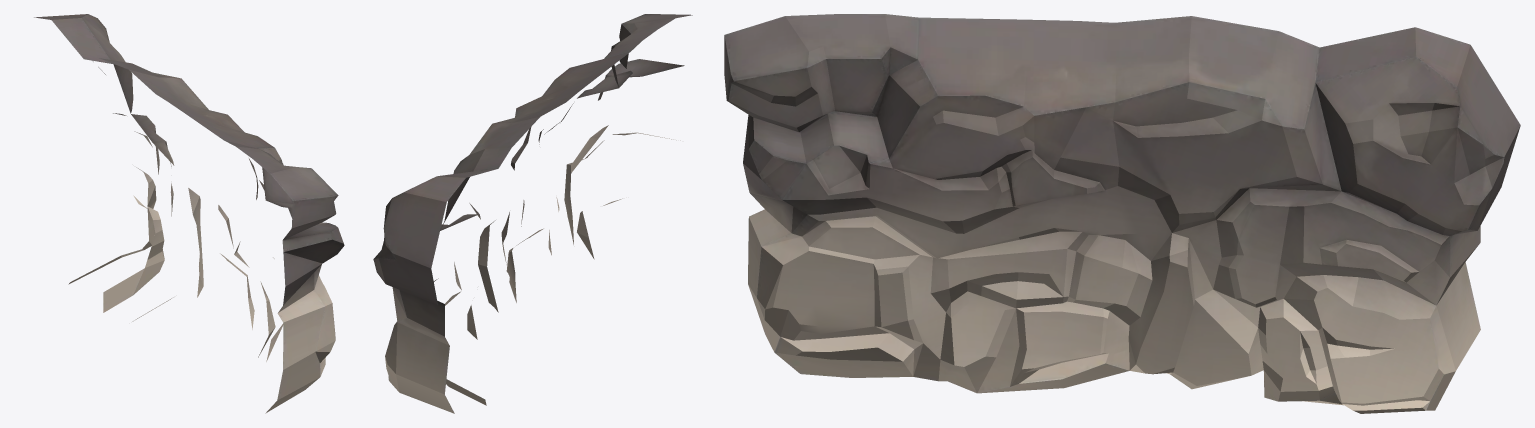
3 views of the same model, side by side, from view 1: azimuth 30°, elevation 25°; view 2: azimuth 150°, elevation 25°; view 3: azimuth 270°, elevation 25° (orthographic). The views are drawn at different scales.
Parts seen in each view (by area): view 1: body0_model0_lod0_mesh0; view 2: body0_model0_lod0_mesh0; view 3: body0_model0_lod0_mesh0.
Part boxes in pixels (x1,y1,x2,y2): body0_model0_lod0_mesh0: (34, 14, 344, 413); body0_model0_lod0_mesh0: (373, 14, 692, 413); body0_model0_lod0_mesh0: (724, 14, 1520, 413).
Size of the model in its own units: 256 by 775 by 1476.
Materials: 1 (1 with a texture image).
